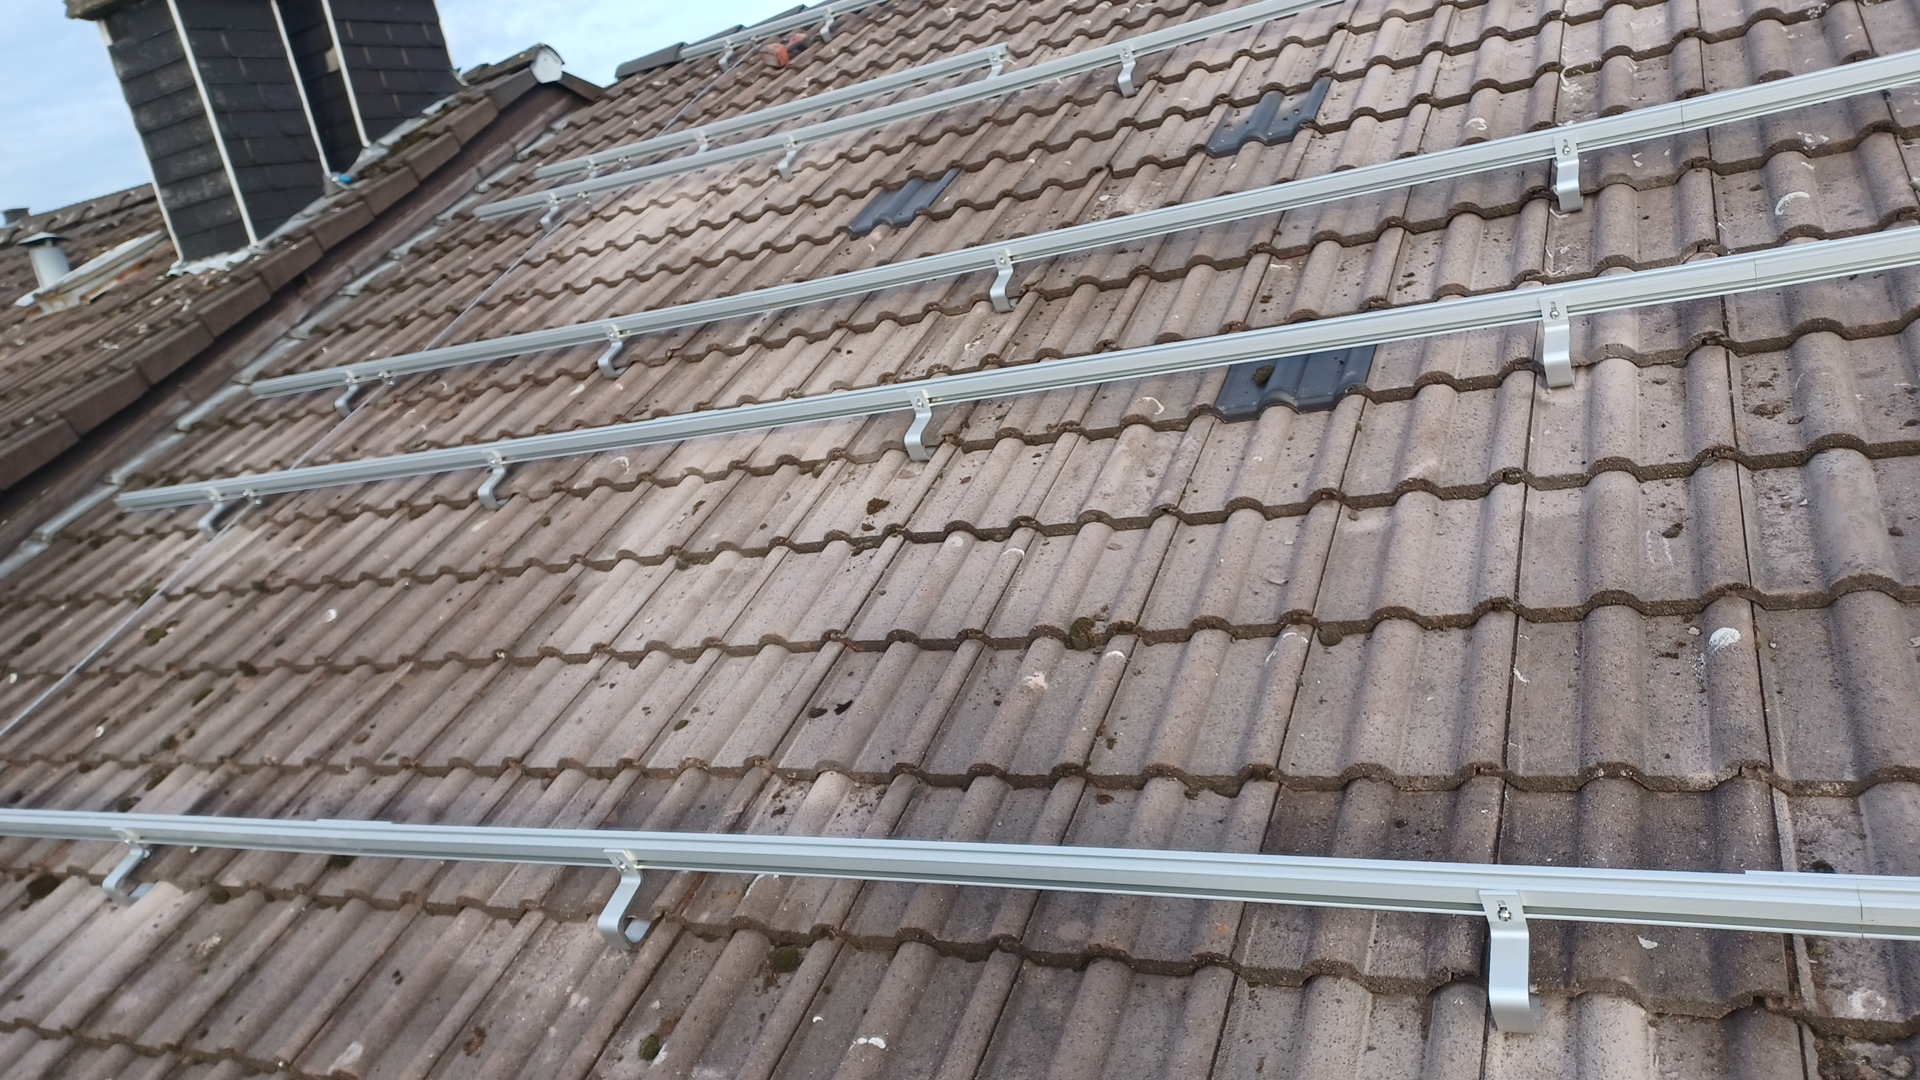hook: (1478, 889, 1539, 1034), (597, 849, 655, 949), (102, 827, 154, 905), (1539, 294, 1575, 386), (905, 389, 936, 462), (477, 448, 509, 509), (989, 247, 1018, 313), (196, 487, 227, 541), (597, 324, 626, 378), (1116, 44, 1142, 98), (334, 371, 360, 419), (777, 135, 798, 179), (541, 193, 560, 233), (692, 129, 709, 171), (717, 40, 735, 73), (985, 50, 1002, 80), (819, 8, 833, 42), (582, 160, 600, 179)
